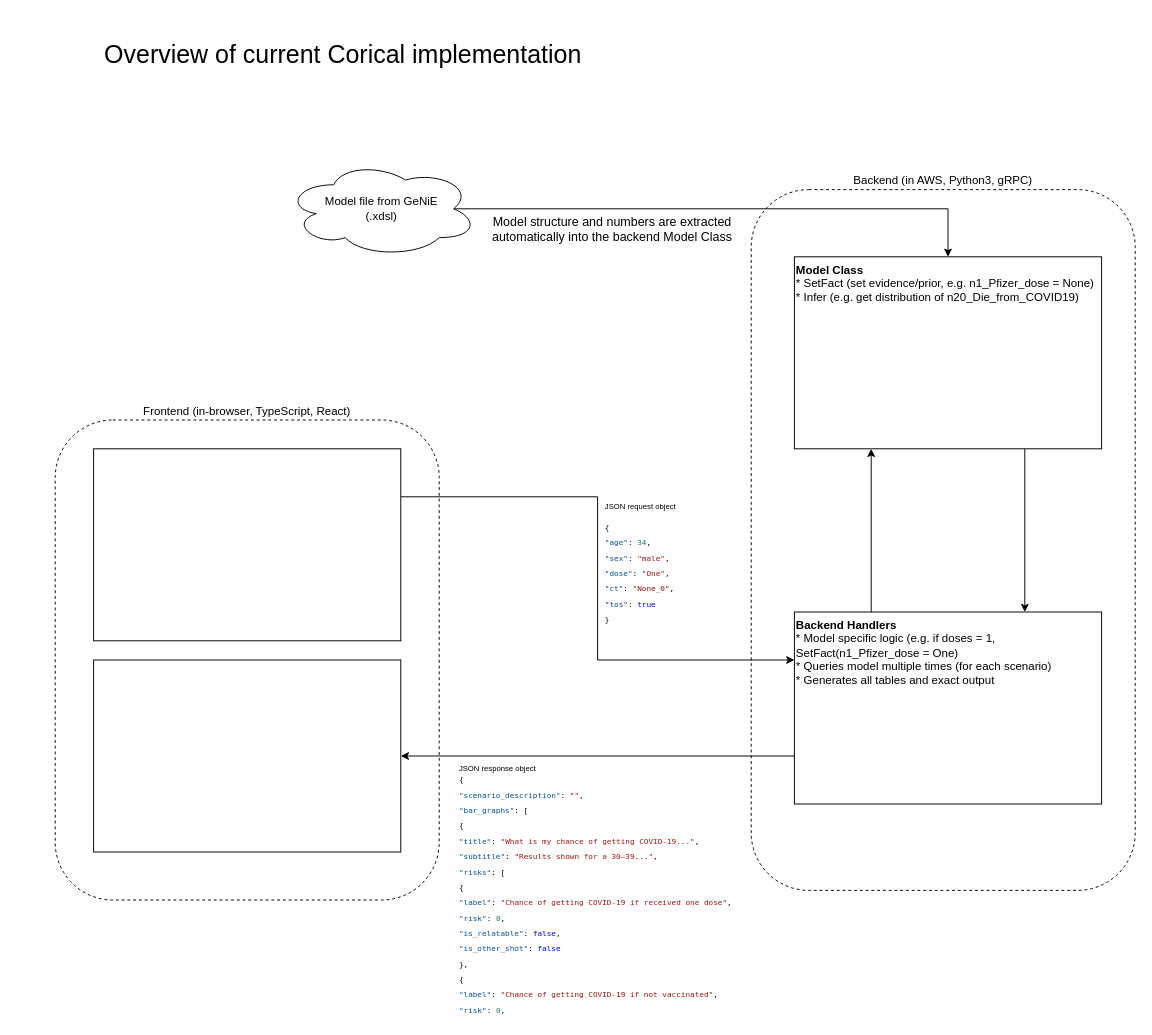
The diagram is 1152 pixels wide and 1035 high, and some of its shapes have lost their labels. The shapes that lost their labels are listed below. From the top down, each one's centre as x and y in pixels, then its label:
the point at 247,544: Model Inputs * Age, sex, etc * Hardcoded to match GeNiE inputs
the point at 247,755: Model Outputs Display graphs and tables exactly as returned by backend
